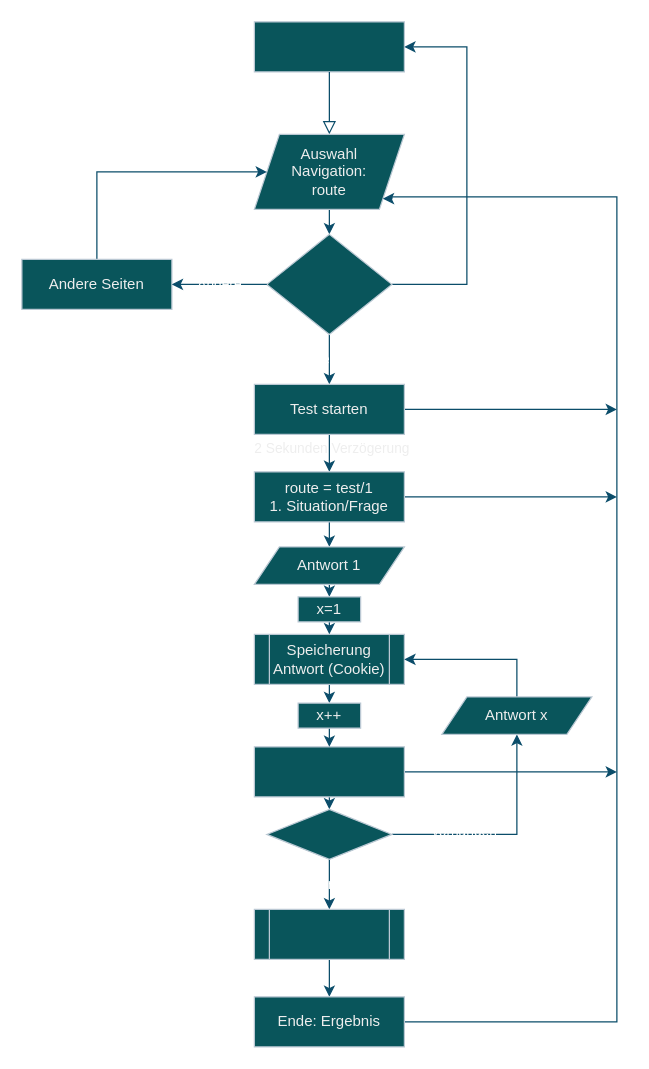
The diagram is 649 pixels wide and 1069 high, and some of its shapes have lost their labels. The shapes that lost their labels are listed below. From the top down, each one's centre as x and y in pixels, then its label:
At pixel 328 46: "Start: Homepage".
At pixel 329 283: "route = ?".
At pixel 328 771: "test/x x. Situation/Frage".
At pixel 329 833: "Frage x".
At pixel 328 933: "Auswertung des Tests".
